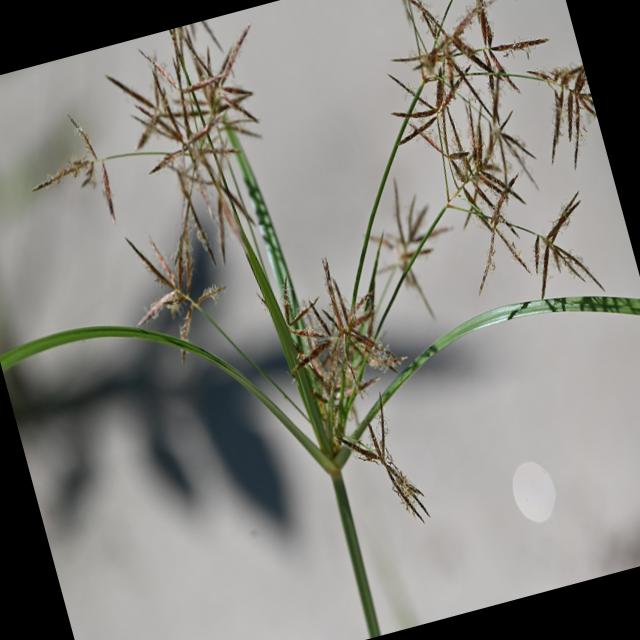cyperus: (4, 10, 322, 377), (360, 0, 640, 338), (274, 250, 445, 544), (356, 168, 456, 314)
